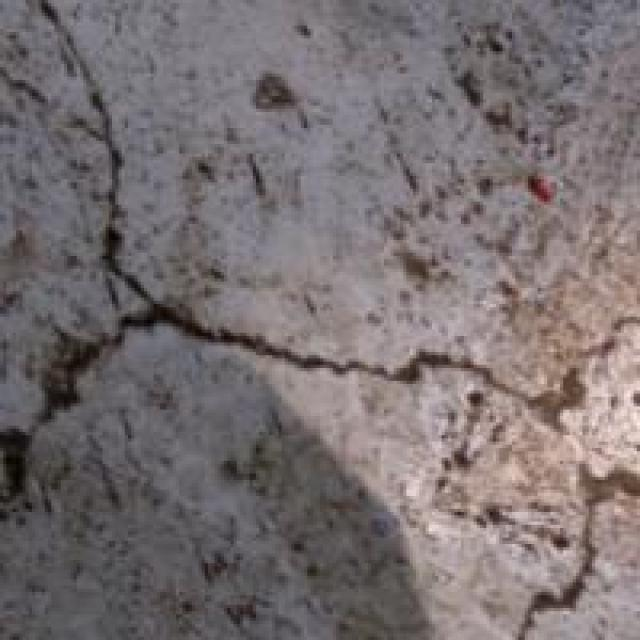crack: (9, 10, 540, 579)
